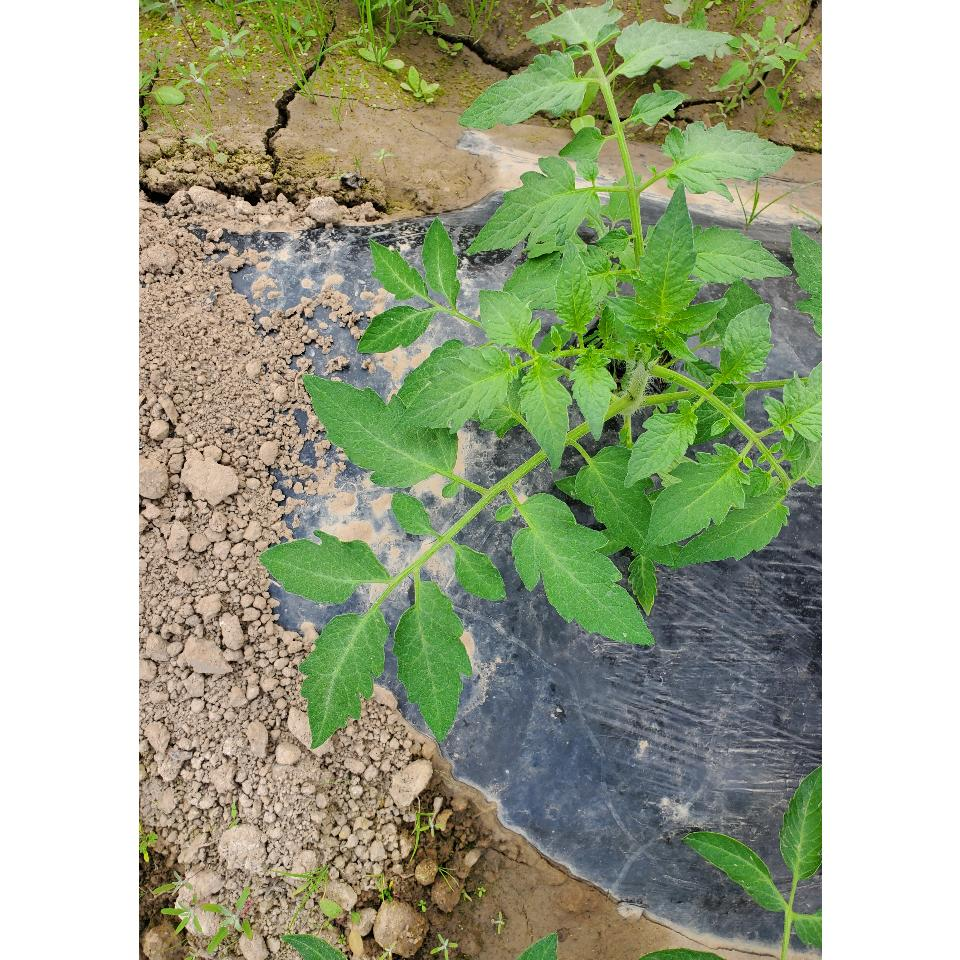tomato_leaves: (517, 494, 653, 646), (302, 374, 460, 484), (302, 608, 384, 750), (399, 582, 471, 742), (460, 50, 592, 128), (259, 534, 389, 604), (666, 124, 794, 190), (623, 18, 731, 76), (522, 367, 570, 467), (357, 306, 433, 354), (367, 240, 425, 300), (480, 290, 538, 348), (423, 216, 459, 302), (578, 366, 612, 438)
